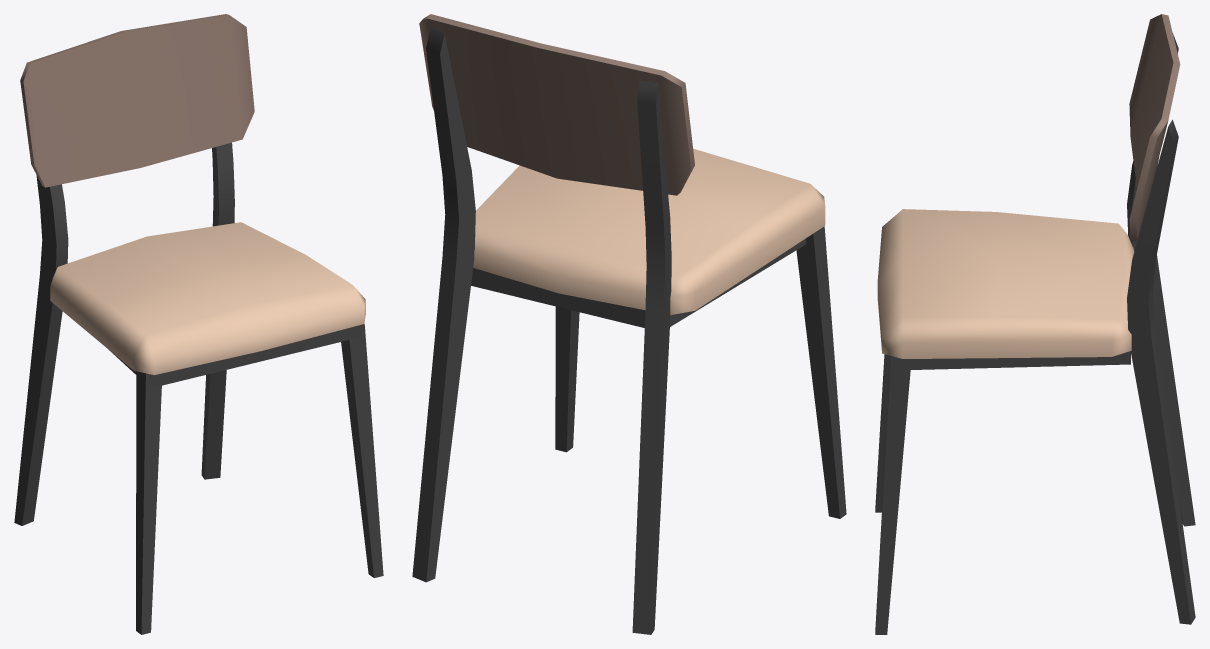
The picture shows the model from 3 angles, left to right: view 1: azimuth 30°, elevation 25°; view 2: azimuth 150°, elevation 25°; view 3: azimuth 270°, elevation 25°; orthographic projection. The views are drawn at different scales.
Parts seen in each view (by area): view 1: kitchen_chair_030; view 2: kitchen_chair_030; view 3: kitchen_chair_030.
Boxes of the visible parts, x1,y1,x2,y2 form: kitchen_chair_030: (14,14,383,634); kitchen_chair_030: (412,14,846,634); kitchen_chair_030: (875,14,1195,634).
Bounding box in the file's own units: 0.4639 × 0.8645 × 0.4935.
